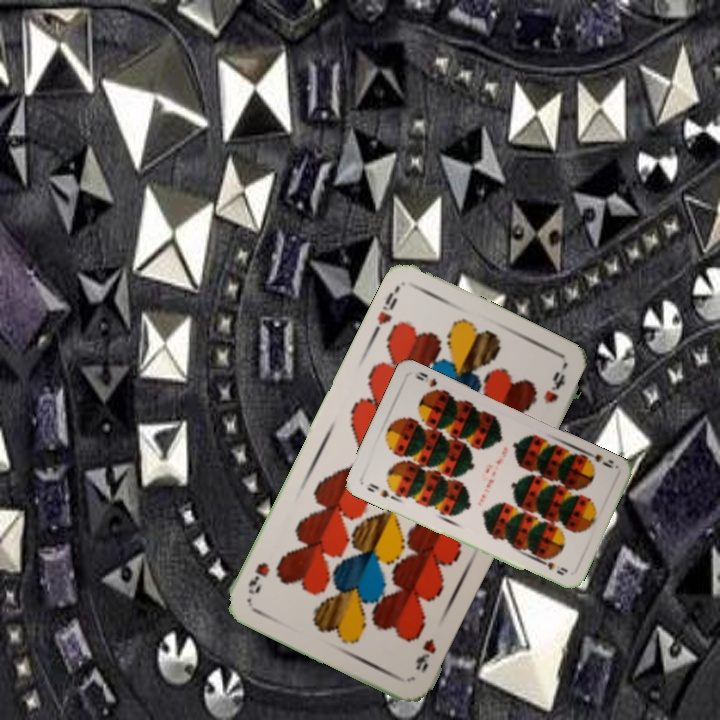H9: (369, 288, 400, 338), (411, 634, 439, 674)
S9: (580, 447, 619, 471), (363, 479, 398, 500)
